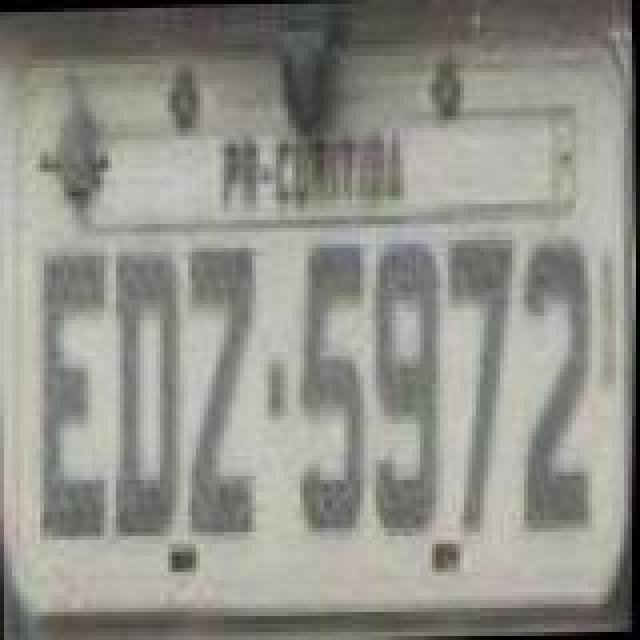2: (510, 234, 598, 542)
5: (286, 236, 374, 532)
7: (440, 228, 524, 544)
9: (362, 234, 450, 542)
D: (104, 242, 188, 538)
E: (28, 244, 120, 540)
Z: (178, 240, 266, 536)
